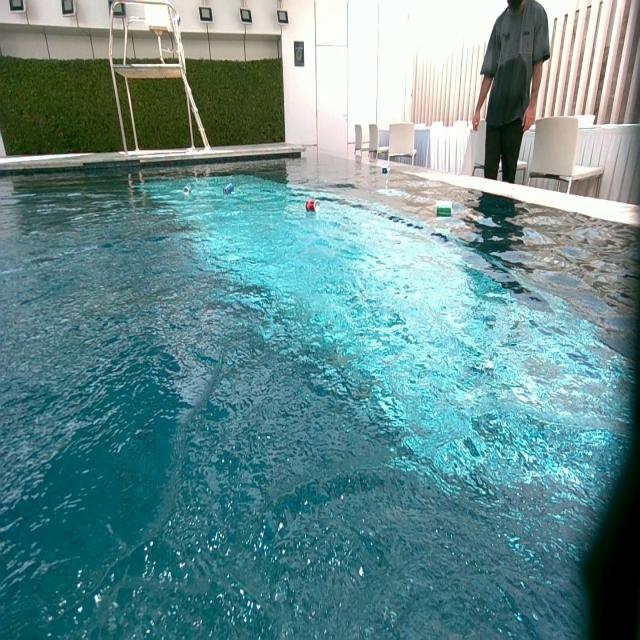Cans: (436, 202, 456, 218), (306, 200, 320, 214), (222, 182, 233, 195), (182, 184, 191, 196), (382, 167, 390, 176)
